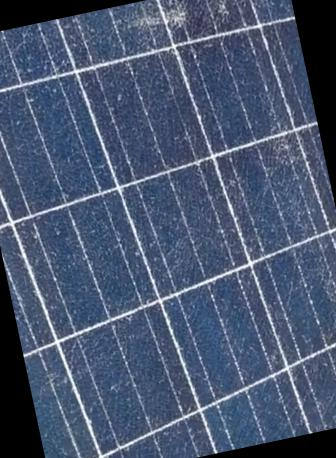Crack: (0, 0, 335, 457), (133, 0, 198, 45)
